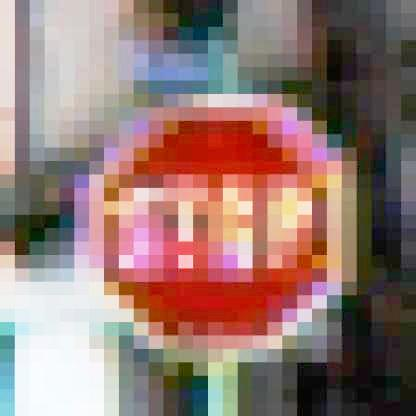Stop Sign: (88, 91, 355, 350)
